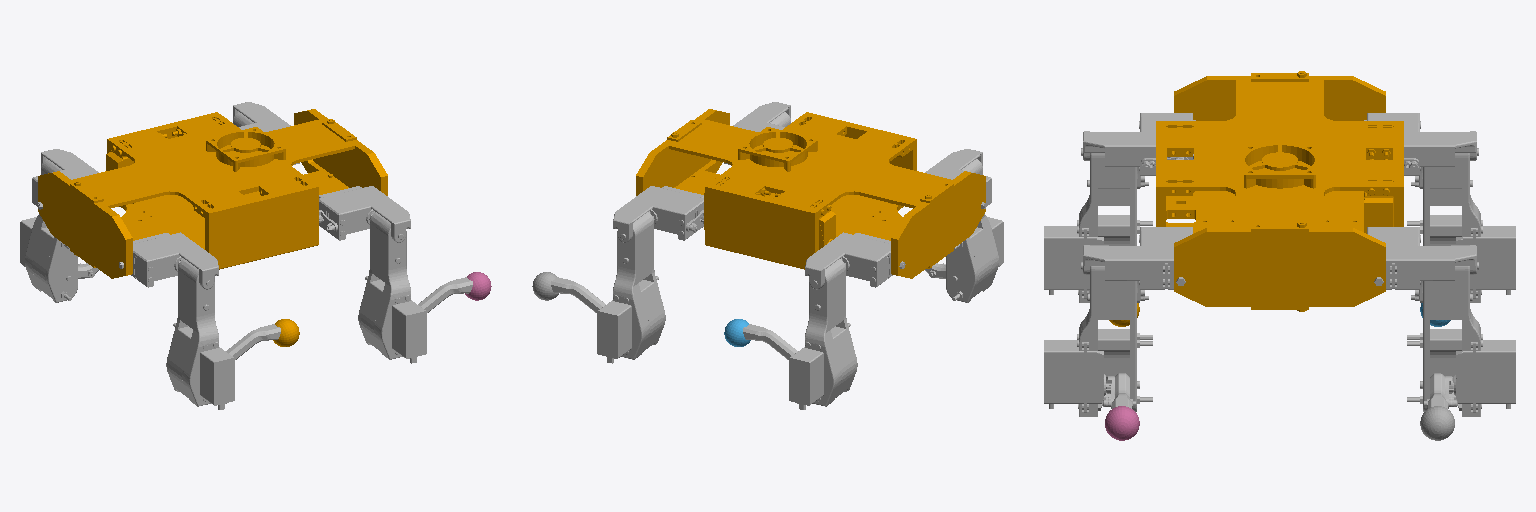
--- Render facts (derived) ---
The picture shows the robot from 3 angles, left to right: view 1: azimuth 30°, elevation 25°; view 2: azimuth 150°, elevation 25°; view 3: azimuth 270°, elevation 25°; orthographic projection.
Robot: urd_robot_cuadrupedo_v5 — 18 links, 17 joints (12 revolute, 5 fixed); root link base_link; default pose: joints at zero except 4 at the middle of their limits (Motor9 = -1.71, Motor10 = -1.71, Motor11 = -1.71, Motor12 = -1.71).
Links seen in each view (by area): view 1: base_link, eslabon_femur_derecha_delantera, eslabon_femur_derecha_trasera, eslabon_femur_izquierda_trasera, eslabon_coxa_derecha_delantera, eslabon_coxa_derecha_trasera, eslabon_coxa_izquierda_trasera, eslabon_coxa_izquierda_delantera, eslabon_tibia_derecha_delantera, eslabon_tibia_derecha_trasera; view 2: base_link, eslabon_femur_izquierda_delantera, eslabon_femur_izquierda_trasera, eslabon_femur_derecha_trasera, eslabon_coxa_izquierda_delantera, eslabon_coxa_izquierda_trasera, eslabon_coxa_derecha_trasera, eslabon_coxa_derecha_delantera, eslabon_tibia_izquierda_delantera, eslabon_tibia_izquierda_trasera; view 3: base_link, eslabon_femur_izquierda_delantera, eslabon_femur_derecha_delantera, eslabon_femur_derecha_trasera, eslabon_femur_izquierda_trasera, eslabon_coxa_derecha_delantera, eslabon_coxa_izquierda_delantera, eslabon_coxa_derecha_trasera, eslabon_coxa_izquierda_trasera, foot_FR, foot_FL, eslabon_tibia_derecha_delantera (+1 smaller).
Link boxes in pixels (<box>): base_link: <box>38,109,387,278</box>; eslabon_femur_derecha_delantera: <box>358,211,426,363</box>; eslabon_femur_derecha_trasera: <box>166,258,234,409</box>; eslabon_femur_izquierda_trasera: <box>20,159,77,302</box>; eslabon_coxa_derecha_delantera: <box>319,186,410,242</box>; eslabon_coxa_derecha_trasera: <box>119,232,218,289</box>; eslabon_coxa_izquierda_trasera: <box>32,149,98,209</box>; eslabon_coxa_izquierda_delantera: <box>233,102,299,164</box>; eslabon_tibia_derecha_delantera: <box>418,277,472,312</box>; eslabon_tibia_derecha_trasera: <box>226,324,280,359</box>; base_link: <box>636,109,985,278</box>; eslabon_femur_izquierda_delantera: <box>597,211,665,363</box>; eslabon_femur_izquierda_trasera: <box>789,258,857,409</box>; eslabon_femur_derecha_trasera: <box>946,159,1003,302</box>; eslabon_coxa_izquierda_delantera: <box>613,186,703,242</box>; eslabon_coxa_izquierda_trasera: <box>805,232,905,289</box>; eslabon_coxa_derecha_trasera: <box>925,149,991,208</box>; eslabon_coxa_derecha_delantera: <box>724,102,790,164</box>; eslabon_tibia_izquierda_delantera: <box>551,277,605,312</box>; eslabon_tibia_izquierda_trasera: <box>743,324,797,359</box>; base_link: <box>1156,71,1403,311</box>; eslabon_femur_izquierda_delantera: <box>1407,262,1515,416</box>; eslabon_femur_derecha_delantera: <box>1044,262,1152,416</box>; eslabon_femur_derecha_trasera: <box>1044,148,1152,302</box>; eslabon_femur_izquierda_trasera: <box>1407,148,1515,302</box>; eslabon_coxa_derecha_delantera: <box>1083,227,1192,289</box>; eslabon_coxa_izquierda_delantera: <box>1367,227,1476,289</box>; eslabon_coxa_derecha_trasera: <box>1083,113,1195,175</box>; eslabon_coxa_izquierda_trasera: <box>1364,113,1476,175</box>; foot_FR: <box>1105,406,1139,440</box>; foot_FL: <box>1420,406,1454,440</box>; eslabon_tibia_derecha_delantera: <box>1103,373,1139,408</box>.
Size in the robot's own frame: 0.3323 by 0.3228 by 0.157 metres.
13 mesh visuals loaded from 13 distinct referenced files (13 binary STL).

URDF robot description (urd_robot_cuadrupedo_v5):
<robot
  name="urd_robot_cuadrupedo_v5">
  <link name="base_link">
    <visual>
      <geometry>
        <mesh filename="model://urd_robot_cuadrupedo_v5/meshes/base_robot.STL"/>
      </geometry>
    </visual>

    <collision>
      <geometry>
        <mesh filename="model://urd_robot_cuadrupedo_v5/meshes/base_robot.STL"/>
      </geometry>
    </collision>
  </link>
  <link name="inertial_link">
    <inertial>
      <origin
        xyz="0.0 0.0 0.035"
        rpy="0 0 0" />
      <mass
        value="5.0" />
      <inertia
        ixx="0.005"
        ixy="9.7755E-08"
        ixz="6.3465E-08"
        iyy="0.005"
        iyz="-4.2277E-09"
        izz="0.010" />
    </inertial>
  </link>
  
  <joint name="inertial_joint" type="fixed">
    <parent link="base_link"/>
    <child link="inertial_link"/>
    <origin xyz="0 0 0" rpy="0 0 0"/>
  </joint>

  <link
    name="eslabon_coxa_derecha_delantera">
    <inertial>
      <origin
        xyz="0.035369 -0.0090269 0.001623"
        rpy="0 0 0" />
      <mass
        value="0.076" />
      <inertia
        ixx="1.7467E-05"
        ixy="2.4535E-06"
        ixz="-3.2608E-07"
        iyy="1.4748E-05"
        iyz="4.9519E-07"
        izz="2.7861E-05" />
    </inertial>
    <visual>
      <origin
        xyz="0 0 0"
        rpy="0 0 0" />
      <geometry>
        <mesh
          filename="model://urd_robot_cuadrupedo_v5/meshes/eslabon_coxa_derecha_delantera.STL" />
      </geometry>
      <material
        name="">
        <color
          rgba="0.75294 0.75294 0.75294 1" />
      </material>
    </visual>
    <collision>
      <origin
        xyz="0 0 0"
        rpy="0 0 0" />
      <geometry>
        <mesh
          filename="model://urd_robot_cuadrupedo_v5/meshes/eslabon_coxa_derecha_delantera.STL" />
      </geometry>
    </collision>
  </link>
  <gazebo reference="eslabon_coxa_derecha_delantera">
    <mu1>0.2</mu1>
    <mu2>0.2</mu2>
    <kp>2147483647.0</kp>
    <kd>1.0</kd>
    <maxVel>0.01</maxVel>
    <self_collide>1</self_collide>
  </gazebo>
  <joint
    name="Motor1"
    type="revolute">
    <origin
      xyz="0.0556 -0.0678 0.017"
      rpy="0 0 0" />
    <parent
      link="base_link" />
    <child
      link="eslabon_coxa_derecha_delantera" />
    <axis
      xyz="1 0 0" />
    <limit
      lower="-1.5708" upper="1.5708" effort="10.0" velocity="1.0" />
    <dynamics damping="0.01" friction="10000"/>
  </joint>
  <link
    name="eslabon_femur_derecha_delantera">
    <inertial>
      <origin
        xyz="-0.0024207 -0.037916 -0.062962"
        rpy="0 0 0" />
      <mass
        value="0.1022" />
      <inertia
        ixx="5.4793E-05"
        ixy="-1.9564E-07"
        ixz="-3.536E-06"
        iyy="4.8323E-05"
        iyz="-2.073E-06"
        izz="1.3118E-05" />
    </inertial>
    <visual>
      <origin
        xyz="0 0 0"
        rpy="0 0 0" />
      <geometry>
        <mesh
          filename="model://urd_robot_cuadrupedo_v5/meshes/eslabon_femur_derecha_delantera.STL" />
      </geometry>
      <material
        name="">
        <color
          rgba="0.75294 0.75294 0.75294 1" />
      </material>
    </visual>
    <collision>
      <origin
        xyz="0 0 0"
        rpy="0 0 0" />
      <geometry>
        <mesh
          filename="model://urd_robot_cuadrupedo_v5/meshes/eslabon_femur_derecha_delantera.STL" />
      </geometry>
    </collision>
  </link>
  <gazebo reference="eslabon_femur_derecha_delantera">
    <mu1>0.2</mu1>
    <mu2>0.2</mu2>
    <kp>2147483647.0</kp>
    <kd>1.0</kd>
    <maxVel>0.01</maxVel>
    <self_collide>1</self_collide>
  </gazebo>
  <joint
    name="Motor5"
    type="revolute">
    <origin
      xyz="0.0467 -0.0165 0.0002"
      rpy="0 0 0" />
    <parent
      link="eslabon_coxa_derecha_delantera" />
    <child
      link="eslabon_femur_derecha_delantera" />
    <axis
      xyz="0 1 0" />
    <limit
      lower="-1.0472" upper="1.885" effort="10.0" velocity="1.0" />
    <dynamics damping="0.01" friction="10000"/>
  </joint>
  <link
    name="eslabon_tibia_derecha_delantera">
    <inertial>
      <origin
        xyz="-0.00052387 -0.014256 -0.033591"
        rpy="0 0 0" />
      <mass
        value="0.02333" />
      <inertia
        ixx="1.0939E-05"
        ixy="3.5897E-09"
        ixz="8.1426E-07"
        iyy="1.094E-05"
        iyz="1.3416E-08"
        izz="7.9923E-07" />
    </inertial>
    <visual>
      <origin
        xyz="0 0 0"
        rpy="0 0 0" />
      <geometry>
        <mesh
          filename="model://urd_robot_cuadrupedo_v5/meshes/eslabon_tibia_derecha_delantera.STL" />
      </geometry>
      <material
        name="">
        <color
          rgba="0.75294 0.75294 0.75294 1" />
      </material>
    </visual>
    <collision>
      <origin
        xyz="0 0 0"
        rpy="0 0 0" />
      <geometry>
        <mesh
          filename="model://urd_robot_cuadrupedo_v5/meshes/eslabon_tibia_derecha_delantera.STL" />
      </geometry>
    </collision>
  </link>
  <gazebo reference="eslabon_tibia_derecha_delantera">
    <mu1>0.2</mu1>
    <mu2>0.2</mu2>
    <fdir1>1 0 0</fdir1>
    <kp>2147483647.0</kp>
    <kd>1.0</kd>
    <maxVel>0.01</maxVel>
    <self_collide>1</self_collide>
    <minDepth>0.001</minDepth>
  </gazebo>
  <joint
    name="Motor9"
    type="revolute">
    <origin
      xyz="0 -0.0118 -0.09"
      rpy="0 0 0" />
    <parent
      link="eslabon_femur_derecha_delantera" />
    <child
      link="eslabon_tibia_derecha_delantera" />
    <axis
      xyz="0 1 0" />
    <limit
      lower="-3.0019" upper="-0.4189" effort="10.0" velocity="1.0"/>
    <dynamics damping="0.01" friction="10000"/>
  </joint>
  <link
    name="eslabon_coxa_derecha_trasera">
    <inertial>
      <origin
        xyz="-0.032487 -0.0090269 0.0016241"
        rpy="0 0 0" />
      <mass
        value="0.076" />
      <inertia
        ixx="1.7467E-05"
        ixy="2.4094E-06"
        ixz="-3.4746E-07"
        iyy="1.4778E-05"
        iyz="5.0366E-07"
        izz="2.7891E-05" />
    </inertial>
    <visual>
      <origin
        xyz="0 0 0"
        rpy="0 0 0" />
      <geometry>
        <mesh
          filename="model://urd_robot_cuadrupedo_v5/meshes/eslabon_coxa_derecha_trasera.STL" />
      </geometry>
      <material
        name="">
        <color
          rgba="0.75294 0.75294 0.75294 1" />
      </material>
    </visual>
    <collision>
      <origin
        xyz="0 0 0"
        rpy="0 0 0" />
      <geometry>
        <mesh
          filename="model://urd_robot_cuadrupedo_v5/meshes/eslabon_coxa_derecha_trasera.STL" />
      </geometry>
    </collision>
  </link>
  <gazebo reference="eslabon_coxa_derecha_trasera">
    <mu1>0.2</mu1>
    <mu2>0.2</mu2>
    <kp>2147483647.0</kp>
    <kd>1.0</kd>
    <maxVel>0.01</maxVel>
    <self_collide>1</self_collide>
  </gazebo>
  <joint
    name="Motor2"
    type="revolute">
    <origin
      xyz="-0.0556 -0.0678 0.017"
      rpy="0 0 0" />
    <parent
      link="base_link" />
    <child
      link="eslabon_coxa_derecha_trasera" />
    <axis
      xyz="1 0 0" />
    <limit
      lower="-1.5708" upper="1.5708" effort="10.0" velocity="1.0" />
    <dynamics damping="0.01" friction="10000"/>
  </joint>
  <link
    name="eslabon_femur_derecha_trasera">
    <inertial>
      <origin
        xyz="-0.0024207 -0.037916 -0.062962"
        rpy="0 0 0" />
      <mass
        value="0.1022" />
      <inertia
        ixx="5.4793E-05"
        ixy="-1.9564E-07"
        ixz="-3.536E-06"
        iyy="4.8323E-05"
        iyz="-2.073E-06"
        izz="1.3118E-05" />
    </inertial>
    <visual>
      <origin
        xyz="0 0 0"
        rpy="0 0 0" />
      <geometry>
        <mesh
          filename="model://urd_robot_cuadrupedo_v5/meshes/eslabon_femur_derecha_trasera.STL" />
      </geometry>
      <material
        name="">
        <color
          rgba="0.75294 0.75294 0.75294 1" />
      </material>
    </visual>
    <collision>
      <origin
        xyz="0 0 0"
        rpy="0 0 0" />
      <geometry>
        <mesh
          filename="model://urd_robot_cuadrupedo_v5/meshes/eslabon_femur_derecha_trasera.STL" />
      </geometry>
    </collision>
  </link>
  <gazebo reference="eslabon_femur_derecha_trasera">
    <mu1>0.2</mu1>
    <mu2>0.2</mu2>
    <kp>2147483647.0</kp>
    <kd>1.0</kd>
    <maxVel>0.01</maxVel>
    <self_collide>1</self_collide>
  </gazebo>
  <joint
    name="Motor6"
    type="revolute">
    <origin
      xyz="-0.0267 -0.0165 0.0002"
      rpy="0 0 0" />
    <parent
      link="eslabon_coxa_derecha_trasera" />
    <child
      link="eslabon_femur_derecha_trasera" />
    <axis
      xyz="0 1 0" />
    <limit
      lower="-1.0472" upper="1.885" effort="10.0" velocity="1.0"/>
    <dynamics damping="0.01" friction="10000"/>
  </joint>
  <link
    name="eslabon_tibia_derecha_trasera">
    <inertial>
      <origin
        xyz="-0.00052387 -0.014256 -0.033591"
        rpy="0 0 0" />
      <mass
        value="0.02333" />
      <inertia
        ixx="1.0939E-05"
        ixy="3.5897E-09"
        ixz="8.1426E-07"
        iyy="1.094E-05"
        iyz="1.3416E-08"
        izz="7.9923E-07" />
    </inertial>
    <visual>
      <origin
        xyz="0 0 0"
        rpy="0 0 0" />
      <geometry>
        <mesh
          filename="model://urd_robot_cuadrupedo_v5/meshes/eslabon_tibia_derecha_trasera.STL" />
      </geometry>
      <material
        name="">
        <color
          rgba="0.75294 0.75294 0.75294 1" />
      </material>
    </visual>
    <collision>
      <origin
        xyz="0 0 0"
        rpy="0 0 0" />
      <geometry>
        <mesh
          filename="model://urd_robot_cuadrupedo_v5/meshes/eslabon_tibia_derecha_trasera.STL" />
      </geometry>
    </collision>
  </link>
  <gazebo reference="eslabon_tibia_derecha_trasera">
    <mu1>0.2</mu1>
    <mu2>0.2</mu2>
    <fdir1>1 0 0</fdir1>
    <kp>2147483647.0</kp>
    <kd>1.0</kd>
    <maxVel>0.01</maxVel>
    <self_collide>1</self_collide>
    <minDepth>0.001</minDepth>
  </gazebo>
  <joint
    name="Motor10"
    type="revolute">
    <origin
      xyz="0 -0.0118 -0.09"
      rpy="0 0 0" />
    <parent
      link="eslabon_femur_derecha_trasera" />
    <child
      link="eslabon_tibia_derecha_trasera" />
    <axis
      xyz="0 1 0" />
    <limit
      lower="-3.0019" upper="-0.4189" effort="10.0" velocity="1.0" />
    <dynamics damping="0.01" friction="10000"/>
  </joint>
  <link
    name="eslabon_coxa_izquierda_delantera">
    <inertial>
      <origin
        xyz="0.035374 0.0090266 0.001627"
        rpy="0 0 0" />
      <mass
        value="0.075981" />
      <inertia
        ixx="1.746E-05"
        ixy="-2.4484E-06"
        ixz="-3.1785E-07"
        iyy="1.4729E-05"
        iyz="-5.0055E-07"
        izz="2.7844E-05" />
    </inertial>
    <visual>
      <origin
        xyz="0 0 0"
        rpy="0 0 0" />
      <geometry>
        <mesh
          filename="model://urd_robot_cuadrupedo_v5/meshes/eslabon_coxa_izquierda_delantera.STL" />
      </geometry>
      <material
        name="">
        <color
          rgba="0.75294 0.75294 0.75294 1" />
      </material>
    </visual>
    <collision>
      <origin
        xyz="0 0 0"
        rpy="0 0 0" />
      <geometry>
        <mesh
          filename="model://urd_robot_cuadrupedo_v5/meshes/eslabon_coxa_izquierda_delantera.STL" />
      </geometry>
    </collision>
  </link>
  <gazebo reference="eslabon_coxa_izquierda_delantera">
    <mu1>0.2</mu1>
    <mu2>0.2</mu2>
    <kp>2147483647.0</kp>
    <kd>1.0</kd>
    <maxVel>0.01</maxVel>
    <self_collide>1</self_collide>
  </gazebo>
  <joint
    name="Motor3"
    type="revolute">
    <origin
      xyz="0.0556 0.0678 0.017"
      rpy="0 0 0" />
    <parent
      link="base_link" />
    <child
      link="eslabon_coxa_izquierda_delantera" />
    <axis
      xyz="1 0 0" />
    <limit
      lower="-1.5708" upper="1.5708" effort="10.0" velocity="1.0"/>
    <dynamics damping="0.01" friction="10000"/>
  </joint>
  <link
    name="eslabon_femur_izquierda_delantera">
    <inertial>
      <origin
        xyz="-0.0024214 0.037916 -0.062962"
        rpy="0 0 0" />
      <mass
        value="0.1022" />
      <inertia
        ixx="5.4793E-05"
        ixy="1.9572E-07"
        ixz="-3.5447E-06"
        iyy="4.8323E-05"
        iyz="2.073E-06"
        izz="1.3118E-05" />
    </inertial>
    <visual>
      <origin
        xyz="0 0 0"
        rpy="0 0 0" />
      <geometry>
        <mesh
          filename="model://urd_robot_cuadrupedo_v5/meshes/eslabon_femur_izquierda_delantera.STL" />
      </geometry>
      <material
        name="">
        <color
          rgba="0.75294 0.75294 0.75294 1" />
      </material>
    </visual>
    <collision>
      <origin
        xyz="0 0 0"
        rpy="0 0 0" />
      <geometry>
        <mesh
          filename="model://urd_robot_cuadrupedo_v5/meshes/eslabon_femur_izquierda_delantera.STL" />
      </geometry>
    </collision>
  </link>
  <gazebo reference="eslabon_femur_izquierda_delantera">
    <mu1>0.2</mu1>
    <mu2>0.2</mu2>
    <kp>2147483647.0</kp>
    <kd>1.0</kd>
    <maxVel>0.01</maxVel>
    <self_collide>1</self_collide>
  </gazebo>
  <joint
    name="Motor7"
    type="revolute">
    <origin
      xyz="0.0467 0.0165 0.0002"
      rpy="0 0 0" />
    <parent
      link="eslabon_coxa_izquierda_delantera" />
    <child
      link="eslabon_femur_izquierda_delantera" />
    <axis
      xyz="0 1 0" />
    <limit
      lower="-1.0472" upper="1.885" effort="10.0" velocity="1.0"/>
    <dynamics damping="0.01" friction="10000"/>
  </joint>
  <link
    name="eslabon_tibia_izquierda_delantera">
    <inertial>
      <origin
        xyz="-0.00052045 0.014256 -0.033592"
        rpy="0 0 0" />
      <mass
        value="0.02333" />
      <inertia
        ixx="1.0943E-05"
        ixy="-3.601E-09"
        ixz="8.2159E-07"
        iyy="1.094E-05"
        iyz="-1.3419E-08"
        izz="7.95E-07" />
    </inertial>
    <visual>
      <origin
        xyz="0 0 0"
        rpy="0 0 0" />
      <geometry>
        <mesh
          filename="model://urd_robot_cuadrupedo_v5/meshes/eslabon_tibia_izquierda_delantera.STL" />
      </geometry>
      <material
        name="">
        <color
          rgba="0.75294 0.75294 0.75294 1" />
      </material>
    </visual>
    <collision>
      <origin
        xyz="0 0 0"
        rpy="0 0 0" />
      <geometry>
        <mesh
          filename="model://urd_robot_cuadrupedo_v5/meshes/eslabon_tibia_izquierda_delantera.STL" />
      </geometry>
    </collision>
  </link>
  <gazebo reference="eslabon_tibia_izquierda_delantera">
    <mu1>0.2</mu1>
    <mu2>0.2</mu2>
    <fdir1>1 0 0</fdir1>
    <kp>2147483647.0</kp>
    <kd>1.0</kd>
    <maxVel>0.01</maxVel>
    <self_collide>1</self_collide>
    <minDepth>0.001</minDepth>
  </gazebo>
  <joint
    name="Motor11"
    type="revolute">
    <origin
      xyz="0 0.0118 -0.09"
      rpy="0 0 0" />
    <parent
      link="eslabon_femur_izquierda_delantera" />
    <child
      link="eslabon_tibia_izquierda_delantera" />
    <axis
      xyz="0 1 0" />
    <limit
      lower="-3.0019" upper="-0.4189" effort="10.0" velocity="1.0" />
    <dynamics damping="0.01" friction="10000"/>
  </joint>
  <link
    name="eslabon_coxa_izquierda_trasera">
    <inertial>
      <origin
        xyz="-0.032487 0.0090269 0.0016228"
        rpy="0 0 0" />
      <mass
        value="0.076" />
      <inertia
        ixx="1.7466E-05"
        ixy="-2.4094E-06"
        ixz="-3.4767E-07"
        iyy="1.4778E-05"
        iyz="-4.9508E-07"
        izz="2.7891E-05" />
    </inertial>
    <visual>
      <origin
        xyz="0 0 0"
        rpy="0 0 0" />
      <geometry>
        <mesh
          filename="model://urd_robot_cuadrupedo_v5/meshes/eslabon_coxa_izquierda_trasera.STL" />
      </geometry>
      <material
        name="">
        <color
          rgba="0.75294 0.75294 0.75294 1" />
      </material>
    </visual>
    <collision>
      <origin
        xyz="0 0 0"
        rpy="0 0 0" />
      <geometry>
        <mesh
          filename="model://urd_robot_cuadrupedo_v5/meshes/eslabon_coxa_izquierda_trasera.STL" />
      </geometry>
    </collision>
  </link>
  <gazebo reference="eslabon_coxa_izquierda_trasera">
    <mu1>0.2</mu1>
    <mu2>0.2</mu2>
    <kp>2147483647.0</kp>
    <kd>1.0</kd>
    <maxVel>0.01</maxVel>
    <self_collide>1</self_collide>
  </gazebo>
  <joint
    name="Motor4"
    type="revolute">
    <origin
      xyz="-0.0556 0.0678 0.017"
      rpy="0 0 0" />
    <parent
      link="base_link" />
    <child
      link="eslabon_coxa_izquierda_trasera" />
    <axis
      xyz="1 0 0" />
    <limit
      lower="-1.5708" upper="1.5708" effort="10.0" velocity="1.0" />
    <dynamics damping="0.01" friction="10000"/>
  </joint>
  <link
    name="eslabon_femur_izquierda_trasera">
    <inertial>
      <origin
        xyz="-0.0024214 0.037916 -0.062962"
        rpy="0 0 0" />
      <mass
        value="0.1022" />
      <inertia
        ixx="5.4793E-05"
        ixy="1.9572E-07"
        ixz="-3.5447E-06"
        iyy="4.8323E-05"
        iyz="2.073E-06"
        izz="1.3118E-05" />
    </inertial>
    <visual>
      <origin
        xyz="0 0 0"
        rpy="0 0 0" />
      <geometry>
        <mesh
          filename="model://urd_robot_cuadrupedo_v5/meshes/eslabon_femur_izquierda_trasera.STL" />
      </geometry>
      <material
        name="">
        <color
          rgba="0.75294 0.75294 0.75294 1" />
      </material>
    </visual>
    <collision>
      <origin
        xyz="0 0 0"
        rpy="0 0 0" />
      <geometry>
        <mesh
          filename="model://urd_robot_cuadrupedo_v5/meshes/eslabon_femur_izquierda_trasera.STL" />
      </geometry>
    </collision>
  </link>
  <gazebo reference="eslabon_femur_izquierda_trasera">
    <mu1>0.2</mu1>
    <mu2>0.2</mu2>
    <kp>2147483647.0</kp>
    <kd>1.0</kd>
    <maxVel>0.01</maxVel>
    <self_collide>1</self_collide>
  </gazebo>
  <joint
    name="Motor8"
    type="revolute">
    <origin
      xyz="-0.0267 0.0165 0.0002"
      rpy="0 0 0" />
    <parent
      link="eslabon_coxa_izquierda_trasera" />
    <child
      link="eslabon_femur_izquierda_trasera" />
    <axis
      xyz="0 1 0" />
    <limit
      lower="-1.0472" upper="1.885" effort="10.0" velocity="1.0"/>
    <dynamics damping="0.01" friction="10000"/>
  </joint>
  <link
    name="eslabon_tibia_izquierda_trasera">
    <inertial>
      <origin
        xyz="-0.00052045 0.014256 -0.033592"
        rpy="0 0 0" />
      <mass
        value="0.02333" />
      <inertia
        ixx="1.0943E-05"
        ixy="-3.601E-09"
        ixz="8.2159E-07"
        iyy="1.094E-05"
        iyz="-1.3419E-08"
        izz="7.95E-07" />
    </inertial>
    <visual>
      <origin
        xyz="0 0 0"
        rpy="0 0 0" />
      <geometry>
        <mesh
          filename="model://urd_robot_cuadrupedo_v5/meshes/eslabon_tibia_izquierda_trasera.STL" />
      </geometry>
      <material
        name="">
        <color
          rgba="0.75294 0.75294 0.75294 1" />
      </material>
    </visual>
    <collision>
      <origin
        xyz="0 0 0"
        rpy="0 0 0" />
      <geometry>
        <mesh
          filename="model://urd_robot_cuadrupedo_v5/meshes/eslabon_tibia_izquierda_trasera.STL" />
      </geometry>
    </collision>
  </link>
  <gazebo reference="eslabon_tibia_izquierda_trasera">
    <mu1>0.2</mu1>
    <mu2>0.2</mu2>
    <fdir1>1 0 0</fdir1>
    <kp>2147483647.0</kp>
    <kd>1.0</kd>
    <maxVel>0.01</maxVel>
    <self_collide>1</self_collide>
    <minDepth>0.001</minDepth>
  </gazebo>
  <joint
    name="Motor12"
    type="revolute">
    <origin
      xyz="0 0.0118 -0.09"
      rpy="0 0 0" />
    <parent
      link="eslabon_femur_izquierda_trasera" />
    <child
      link="eslabon_tibia_izquierda_trasera" />
    <axis
      xyz="0 1 0" />
    <limit
      lower="-3.0019" upper="-0.4189" effort="10.0" velocity="1.0" />
    <dynamics damping="0.01" friction="10000"/>
  </joint>

  <link name="foot_FR">
    <inertial>
      <origin xyz="0.0 0.0 0.0" rpy="0 0 0"/>
      <mass value="0.05"/>
      <inertia ixx="8.3333e-07" ixy="0.0" ixz="0.0" iyy="8.3333e-07" iyz="0.0" izz="8.3333e-07"/>
    </inertial>
    <visual>
      <origin rpy="0 0 0" xyz="0 0 0"/>
      <geometry>
        <sphere radius="0.012"/>
      </geometry>
    </visual>
    <collision>
      <geometry>
        <sphere radius="0.012"/>
      </geometry>
      <surface>
        <friction>
          <ode>
            <mu>1</mu>
            <mu2>1</mu2>
            <fdir1>1 0 0</fdir1>
          </ode>
        </friction>
      </surface>
    </collision>
  </link>

  <gazebo reference="foot_FR">
    <mu1>0.9</mu1>
    <mu2>0.9</mu2>
    <fdir1>1 1 0</fdir1>
    <kp value="2147483647.0" />
    <kd value="100.0" />
    <maxVel>0.01</maxVel>
    <self_collide>1</self_collide>
    <minDepth>0.001</minDepth>
    <restitution_coefficient>1</restitution_coefficient>
    <threshold>0</threshold>
    <material>Gazebo/DarkGrey</material>
  </gazebo>


  <joint name="foot_FR_joint" type="fixed">
    <parent link="eslabon_tibia_derecha_delantera"/>
    <child link="foot_FR"/>
    <origin xyz="0 -0.012 -0.09" rpy="0 0 0"/>
  </joint>

  <link name="foot_FL">
    <inertial>
      <origin xyz="0.0 0.0 0.0" rpy="0 0 0"/>
      <mass value="0.05"/>
      <inertia ixx="8.3333e-07" ixy="0.0" ixz="0.0" iyy="8.3333e-07" iyz="0.0" izz="8.3333e-07"/>
    </inertial>
    <visual>
      <origin rpy="0 0 0" xyz="0 0 0"/>
      <geometry>
        <sphere radius="0.012"/>
      </geometry>
    </visual>
    <collision>
      <geometry>
        <sphere radius="0.012"/>
      </geometry>
      <surface>
        <friction>
          <ode>
            <mu>1</mu>
            <mu2>1</mu2>
            <fdir1>1 0 0</fdir1>
          </ode>
        </friction>
      </surface>
    </collision>
  </link>

  <gazebo reference="foot_FL">
    <mu1>0.9</mu1>
    <mu2>0.9</mu2>
    <fdir1>1 1 0</fdir1>
    <kp value="2147483647.0" />
    <kd value="100.0" />
    <maxVel>0.01</maxVel>
    <self_collide>1</self_collide>
    <minDepth>0.001</minDepth>
    <restitution_coefficient>1</restitution_coefficient>
    <threshold>0</threshold>
    <material>Gazebo/DarkGrey</material>
  </gazebo>

  <joint name="foot_FL_joint" type="fixed">
    <parent link="eslabon_tibia_izquierda_delantera"/>
    <child link="foot_FL"/>
    <origin xyz="0 0.012 -0.09" rpy="0 0 0"/>
  </joint>


  <link name="foot_BR">
    <inertial>
      <origin xyz="0.0 0.0 0.0" rpy="0 0 0"/>
      <mass value="0.05"/>
      <inertia ixx="8.3333e-07" ixy="0.0" ixz="0.0" iyy="8.3333e-07" iyz="0.0" izz="8.3333e-07"/>
    </inertial>
    <visual>
      <origin rpy="0 0 0" xyz="0 0 0"/>
      <geometry>
        <sphere radius="0.012"/>
      </geometry>
    </visual>
    <collision>
      <geometry>
        <sphere radius="0.012"/>
      </geometry>
      <surface>
        <friction>
          <ode>
            <mu>1</mu>
            <mu2>1</mu2>
            <fdir1>1 0 0</fdir1>
          </ode>
        </friction>
      </surface>
    </collision>
  </link>

  <gazebo reference="foot_BR">
    <mu1>0.9</mu1>
    <mu2>0.9</mu2>
    <fdir1>1 1 0</fdir1>
    <kp value="2147483647.0" />
    <kd value="100.0" />
    <maxVel>0.01</maxVel>
    <self_collide>1</self_collide>
    <minDepth>0.001</minDepth>
    <restitution_coefficient>1</restitution_coefficient>
    <threshold>0</threshold>
    <material>Gazebo/DarkGrey</material>
  </gazebo>

  <joint name="foot_BR_joint" type="fixed">
    <parent link="eslabon_tibia_derecha_trasera"/>
    <child link="foot_BR"/>
    <origin xyz="0 -0.012 -0.09" rpy="0 0 0"/>
  </joint>


  <link name="foot_BL">
    <inertial>
      <origin xyz="0.0 0.0 0.0" rpy="0 0 0"/>
      <mass value="0.05"/>
      <inertia ixx="8.3333e-07" ixy="0.0" ixz="0.0" iyy="8.3333e-07" iyz="0.0" izz="8.3333e-07"/>
    </inertial>
    <visual>
      <origin rpy="0 0 0" xyz="0 0 0"/>
      <geometry>
        <sphere radius="0.012"/>
      </geometry>
    </visual>
    <collision>
      <geometry>
        <sphere radius="0.012"/>
      </geometry>
      <surface>
        <friction>
          <ode>
            <mu>1</mu>
            <mu2>1</mu2>
            <fdir1>1 0 0</fdir1>
          </ode>
        </friction>
      </surface>
    </collision>
  </link>

  <gazebo reference="foot_BL">
    <mu1>0.9</mu1>
    <mu2>0.9</mu2>
    <fdir1>1 1 0</fdir1>
    <kp value="2147483647.0" />
    <kd value="100.0" />
    <maxVel>0.01</maxVel>
    <self_collide>1</self_collide>
    <minDepth>0.001</minDepth>
    <restitution_coefficient>1</restitution_coefficient>
    <threshold>0</threshold>
    <material>Gazebo/DarkGrey</material>
  </gazebo>

  <joint name="foot_BL_joint" type="fixed">
    <parent link="eslabon_tibia_izquierda_trasera"/>
    <child link="foot_BL"/>
    <origin xyz="0 0.012 -0.09" rpy="0 0 0"/>
  </joint>



  <ros2_control name="GazeboSystem" type="System">
    <hardware>
      <plugin>gazebo_ros2_control/GazeboSystem</plugin>
    </hardware>

    <joint name="Motor1">
      <command_interface name="position"/>
      <state_interface name="position">
        <param name="initial_value">0</param>
      </state_interface>
    </joint>
    <joint name="Motor2">
      <command_interface name="position"/>
      <state_interface name="position">
        <param name="initial_value">0</param>
      </state_interface>
    </joint>
    <joint name="Motor3">
      <command_interface name="position"/>
      <state_interface name="position">
        <param name="initial_value">0</param>
      </state_interface>
    </joint>
    <joint name="Motor4">
      <command_interface name="position"/>
      <state_interface name="position">
        <param name="initial_value">0</param>
      </state_interface>
    </joint>
    <joint name="Motor5">
      <command_interface name="position"/>
      <state_interface name="position">
        <param name="initial_value">1.4033</param>
      </state_interface>
    </joint>
    <joint name="Motor6">
      <command_interface name="position"/>
      <state_interface name="position">
        <param name="initial_value">1.4033</param>
      </state_interface>
    </joint>
    <joint name="Motor7">
      <command_interface name="position"/>
      <state_interface name="position">
        <param name="initial_value">1.4033</param>
      </state_interface>
    </joint>
    <joint name="Motor8">
      <command_interface name="position"/>
      <state_interface name="position">
        <param name="initial_value">1.4033</param>
      </state_interface>
    </joint>
    <joint name="Motor9">
      <command_interface name="position"/>
      <state_interface name="position">
        <param name="initial_value">-2.8067</param>
      </state_interface>
    </joint>
    <joint name="Motor10">
      <command_interface name="position"/>
      <state_interface name="position">
        <param name="initial_value">-2.8067</param>
      </state_interface>
    </joint>
    <joint name="Motor11">
      <command_interface name="position"/>
      <state_interface name="position">
        <param name="initial_value">-2.8067</param>
      </state_interface>
    </joint>
    <joint name="Motor12">
      <command_interface name="position"/>
      <state_interface name="position">
        <param name="initial_value">-2.8067</param>
      </state_interface>
    </joint>
  </ros2_control>

    <gazebo reference="base_link">
      <mu1>2.5</mu1>
      <mu2>2.0</mu2>
      <linearDamping>0.05</linearDamping>
      <angularDamping>0.05</angularDamping>
    </gazebo>

    <gazebo>
      <plugin name="gazebo_ros2_control" filename="libgazebo_ros2_control.so">
        <parameters>[local-path]/robot_ws/install/gazebo_simulation/share/gazebo_simulation/models/urd_robot_cuadrupedo_v5/config/joint_controllers.yaml</parameters>
      </plugin>
    </gazebo>
</robot>
